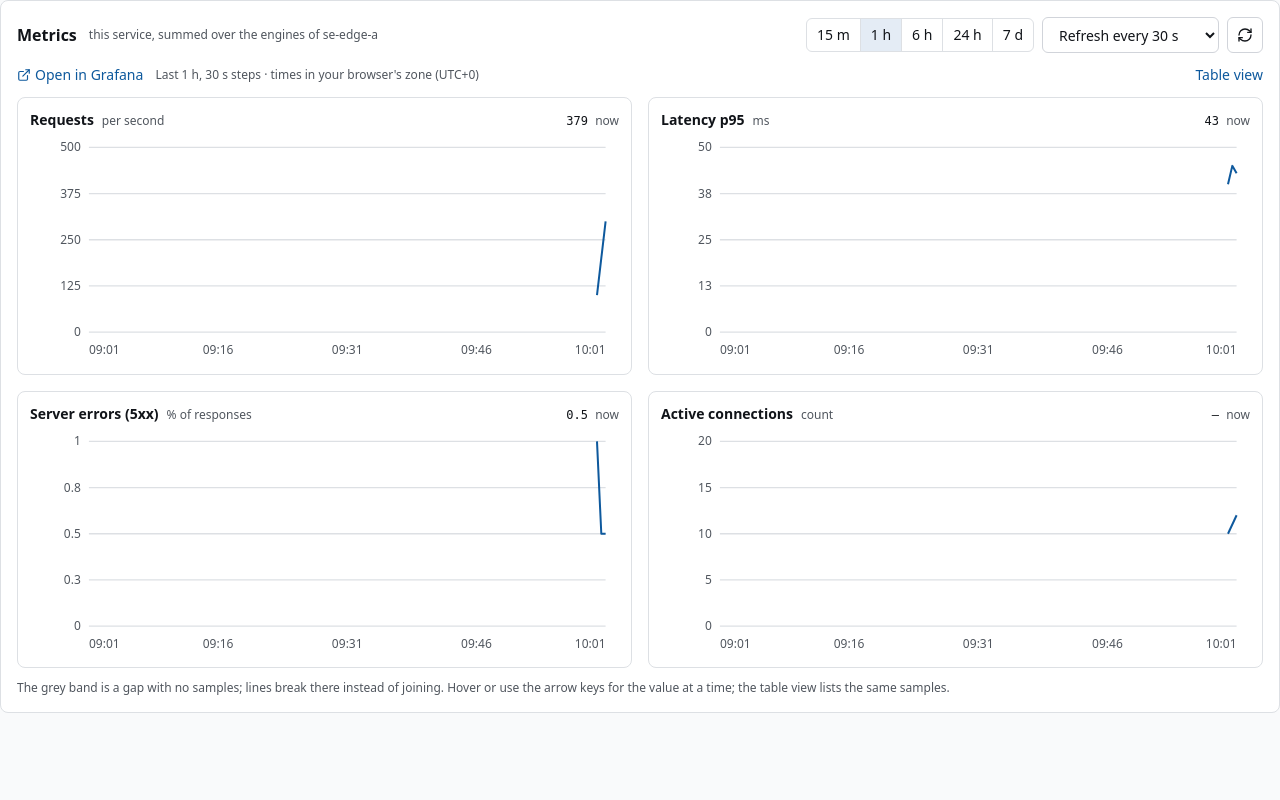
VS metrics › shows the values as a table on request
Expected: the picture named "Requests" is shown, [30,134,619,362]
What coordinates should you click on to do the following:
click the button "Table view"
I would click on:
 (1229, 75)
Its box is [1195,65,1263,85].
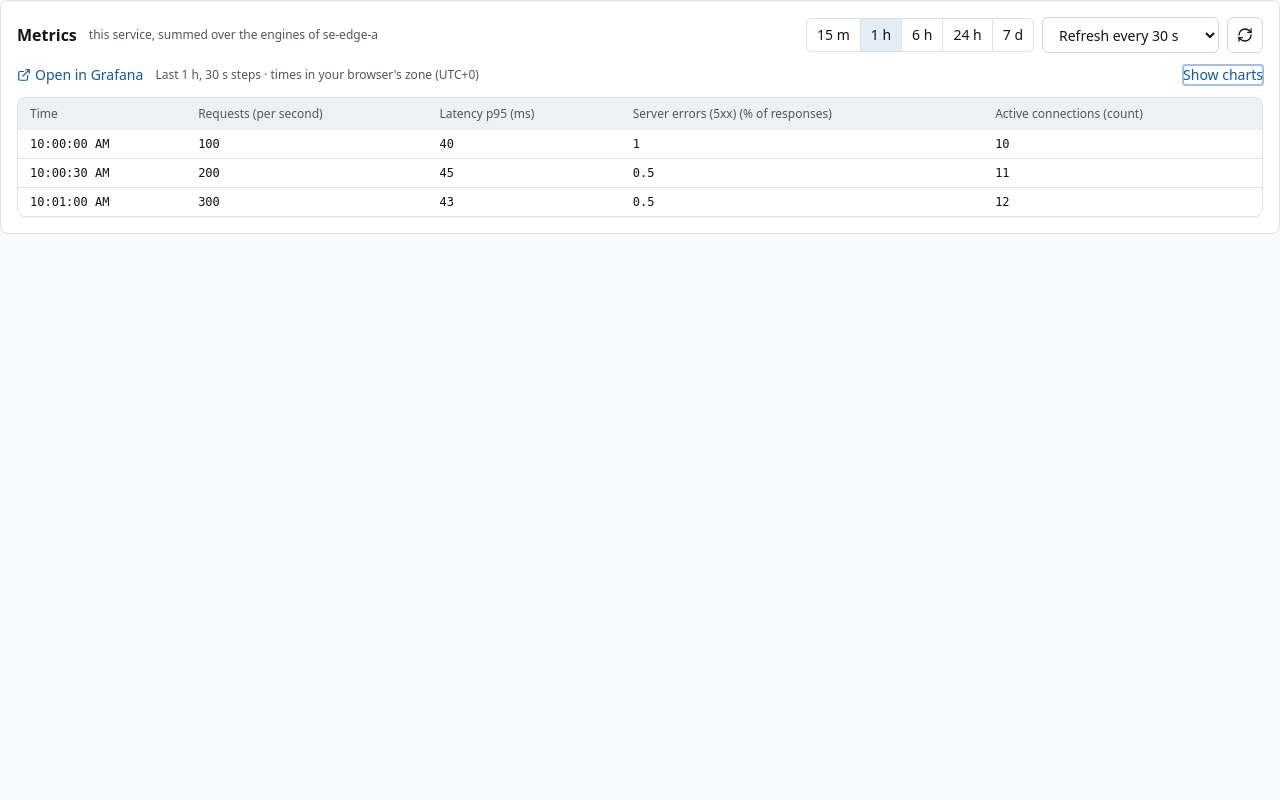
Expected: the number of rows is 4, [18,98,1262,130]; [18,130,1262,158]; [18,158,1262,188]; [18,188,1262,216]
Expected: the text "300" is shown, [186,188,427,216]
